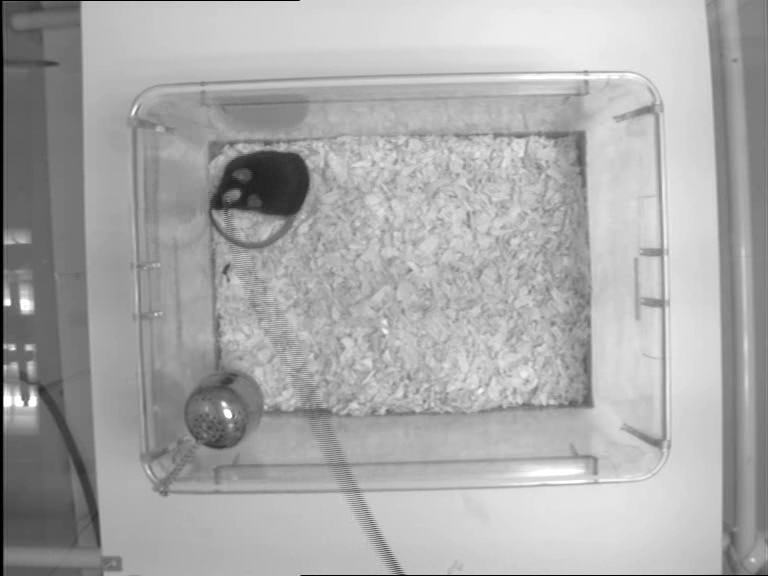mice: (205, 150, 310, 251)
